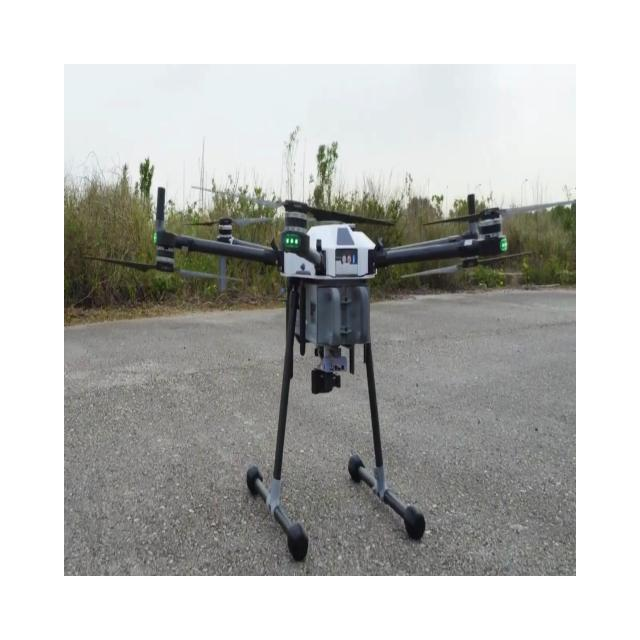drone: (82, 184, 573, 561)
